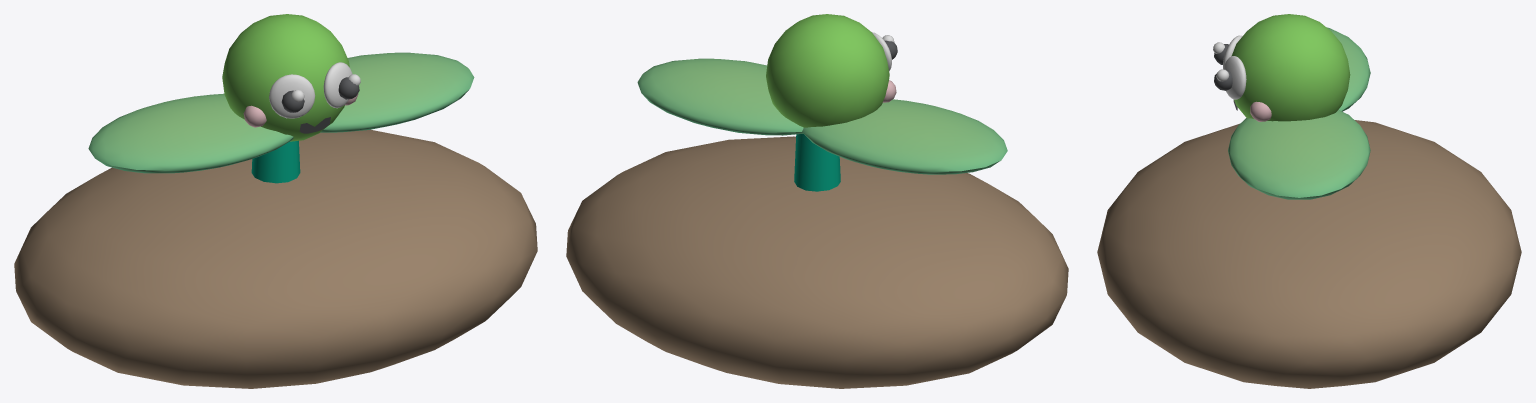
The model's file is character-seedling.glb.
The picture shows the model from 3 angles, left to right: view 1: azimuth 30°, elevation 25°; view 2: azimuth 150°, elevation 25°; view 3: azimuth 270°, elevation 25°; orthographic projection. The views are drawn at different scales.
Visible parts, largest first — view 1: soil, leaf-1, heart, leaf1, stem, face-eye-r, face-eye-l; view 2: soil, heart, leaf-1, leaf1, stem; view 3: soil, heart, leaf1, leaf-1, face-eye-l.
Boxes of the visible parts, box(x1,y1,x2,y2) form: soil: box(14, 129, 537, 388); leaf-1: box(88, 93, 293, 173); heart: box(222, 14, 349, 141); leaf1: box(320, 52, 474, 132); stem: box(251, 140, 300, 183); face-eye-r: box(269, 74, 315, 118); face-eye-l: box(323, 62, 352, 108); soil: box(566, 136, 1068, 388); heart: box(766, 14, 889, 127); leaf-1: box(802, 99, 1007, 174); leaf1: box(637, 58, 803, 135); stem: box(794, 134, 840, 191); soil: box(1097, 120, 1521, 388); heart: box(1231, 14, 1350, 121); leaf1: box(1228, 110, 1370, 199); leaf-1: box(1327, 27, 1370, 111); face-eye-l: box(1223, 56, 1246, 99).
Bounding box in the file's own units: 0.512 × 0.34 × 0.416.
